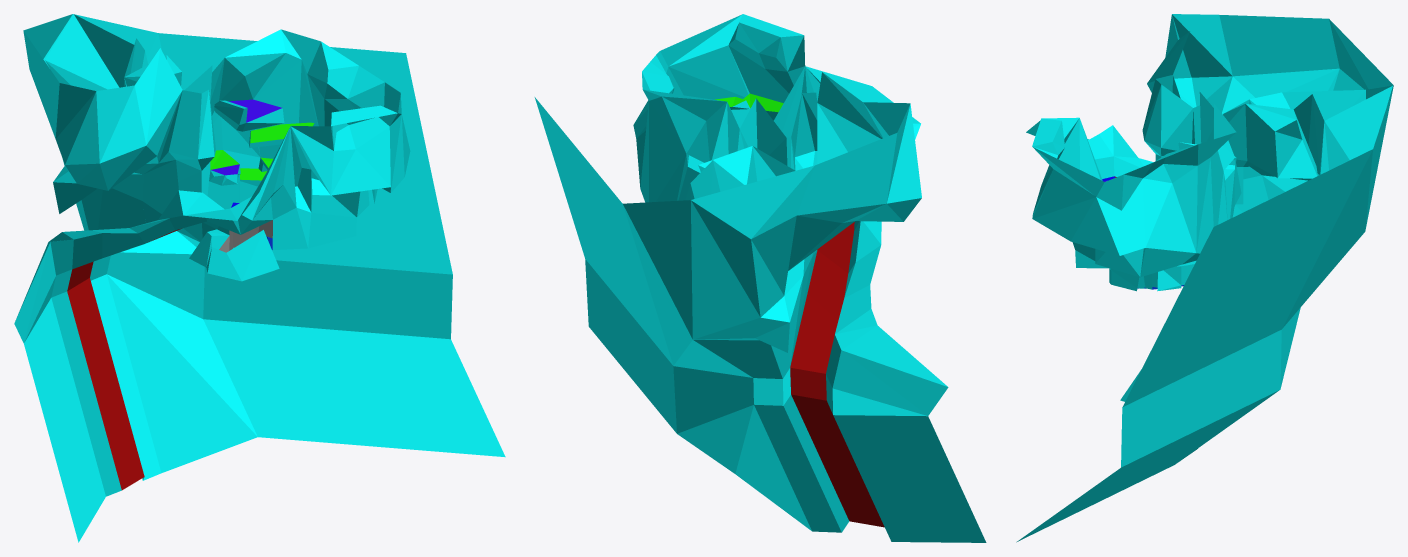
The model's file is SM_PuzzleSection3_fixed_v2.FBX.
3 renders of one model, left to right at view 1: azimuth 30°, elevation 25°; view 2: azimuth 150°, elevation 25°; view 3: azimuth 270°, elevation 25°, orthographic. The views are drawn at different scales.
Visible parts, largest first — view 1: SM_Puzzle01_Shell; view 2: SM_Puzzle01_Shell; view 3: SM_Puzzle01_Shell.
Part boxes in pixels (x1=…): SM_Puzzle01_Shell: x1=14, y1=14, x2=505, y2=542; SM_Puzzle01_Shell: x1=534, y1=14, x2=986, y2=542; SM_Puzzle01_Shell: x1=1016, y1=14, x2=1393, y2=542.
Bounding box in the file's own units: 38268 × 41212 × 33263.
